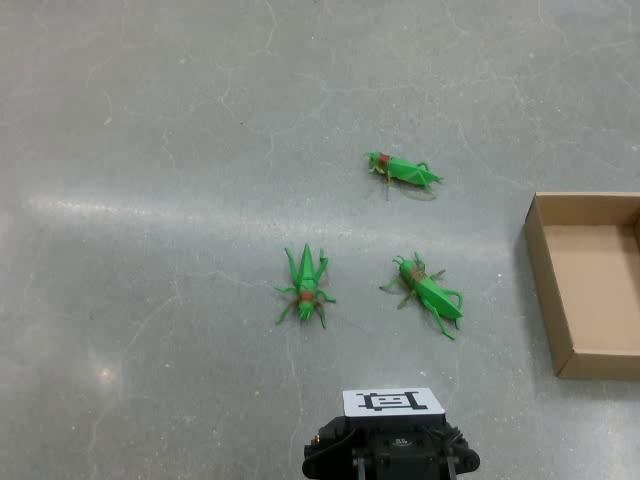box: (523, 190, 639, 380)
grasshopper: (378, 250, 464, 340), (273, 242, 336, 328), (363, 149, 444, 199)
